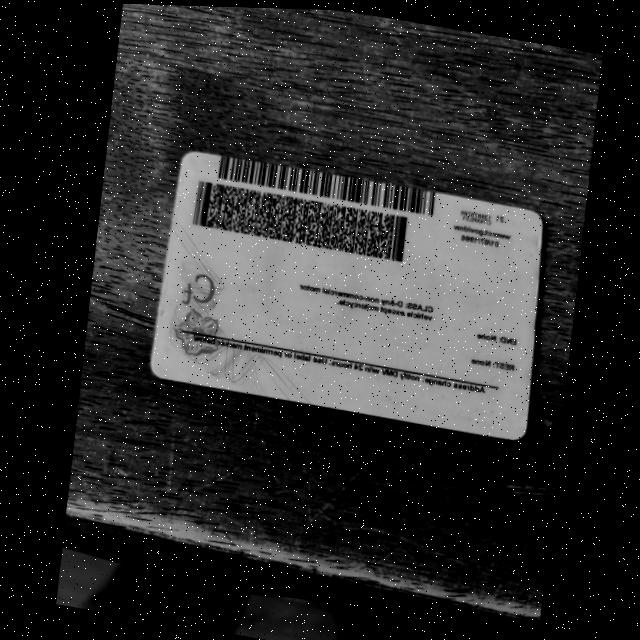card: (151, 153, 540, 439)
